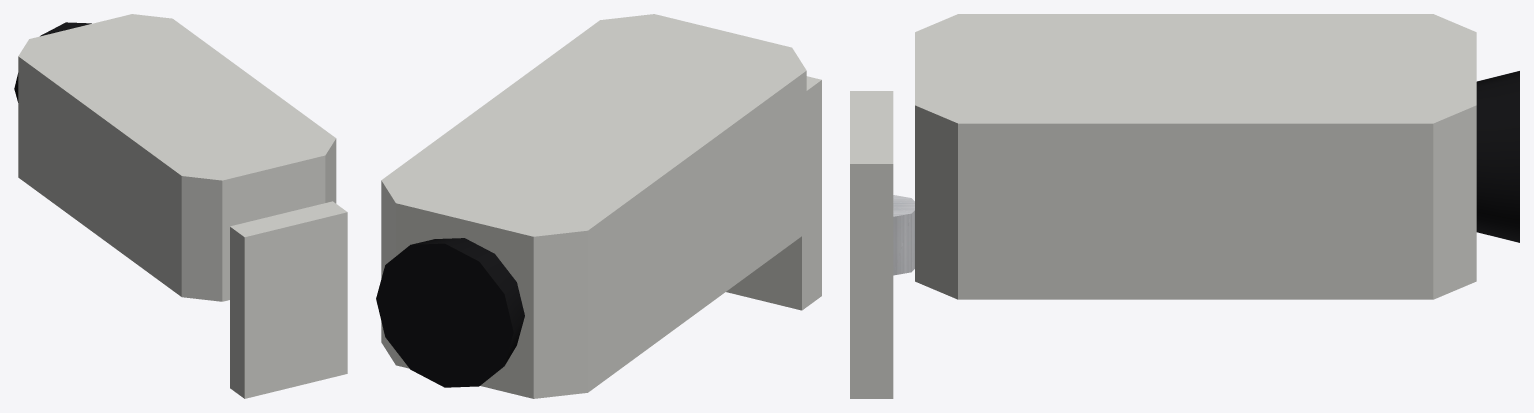
Rendered from security_camera.obj.
3 renders of one model, left to right at view 1: azimuth 30°, elevation 25°; view 2: azimuth 150°, elevation 25°; view 3: azimuth 270°, elevation 25°, orthographic. The views are drawn at different scales.
Parts seen in each view (by area): view 1: security_camera; view 2: security_camera; view 3: security_camera.
Boxes of the visible parts, x1,y1,x2,y2 form: security_camera: (14, 14, 347, 398); security_camera: (376, 14, 821, 398); security_camera: (850, 14, 1519, 398).
Bounding box in the file's own units: 0.12 × 0.15 × 0.31.
4 materials, 1 textured.
